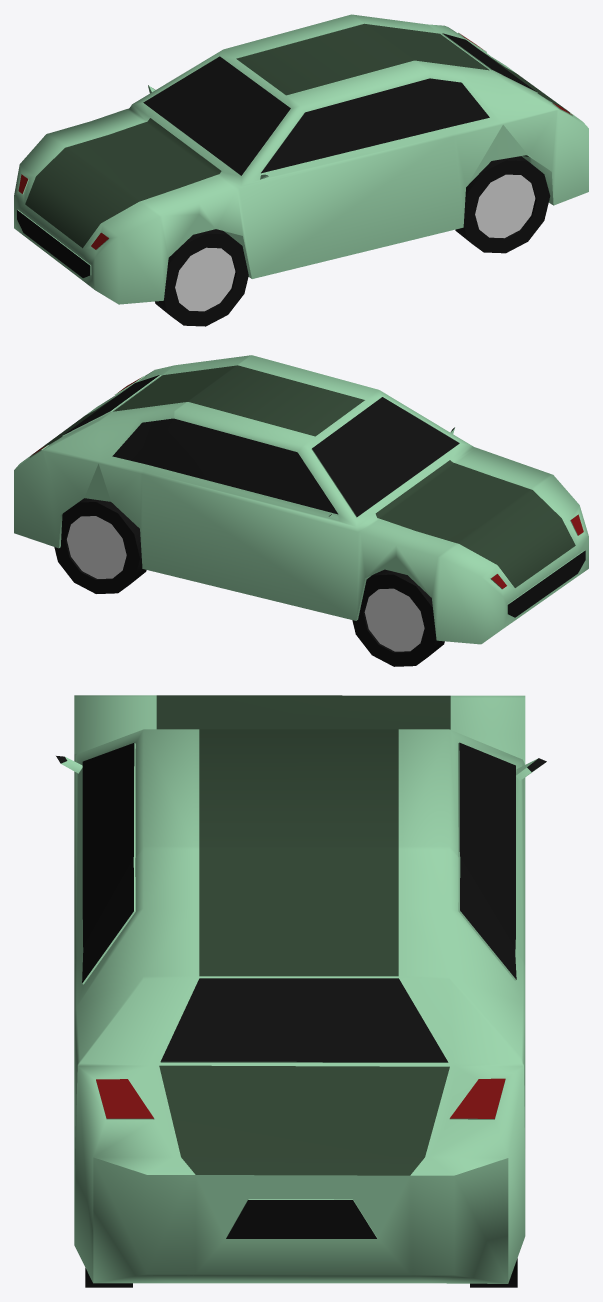
File: Car_M_v1_Carrie.FBX
3 renders of one model, top to bottom at view 1: azimuth 30°, elevation 25°; view 2: azimuth 150°, elevation 25°; view 3: azimuth 270°, elevation 25°, orthographic. The views are drawn at different scales.
Parts seen in each view (by area): view 1: car_base, car_wheel; view 2: car_base, car_wheel; view 3: car_base.
Part boxes in pixels (x1,y1,x2,y2): car_base: (14,14,588,304); car_wheel: (155,156,550,326); car_base: (14,355,588,644); car_wheel: (54,498,444,666); car_base: (56,695,546,1283).
Size of the model in its own units: 744 by 269 by 323.
